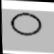no answer: (9, 10, 44, 37)
